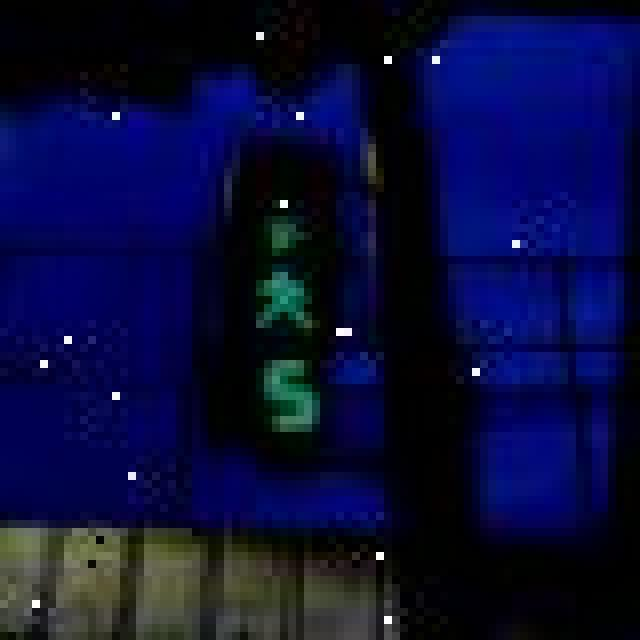greenlight: (192, 104, 360, 352)
